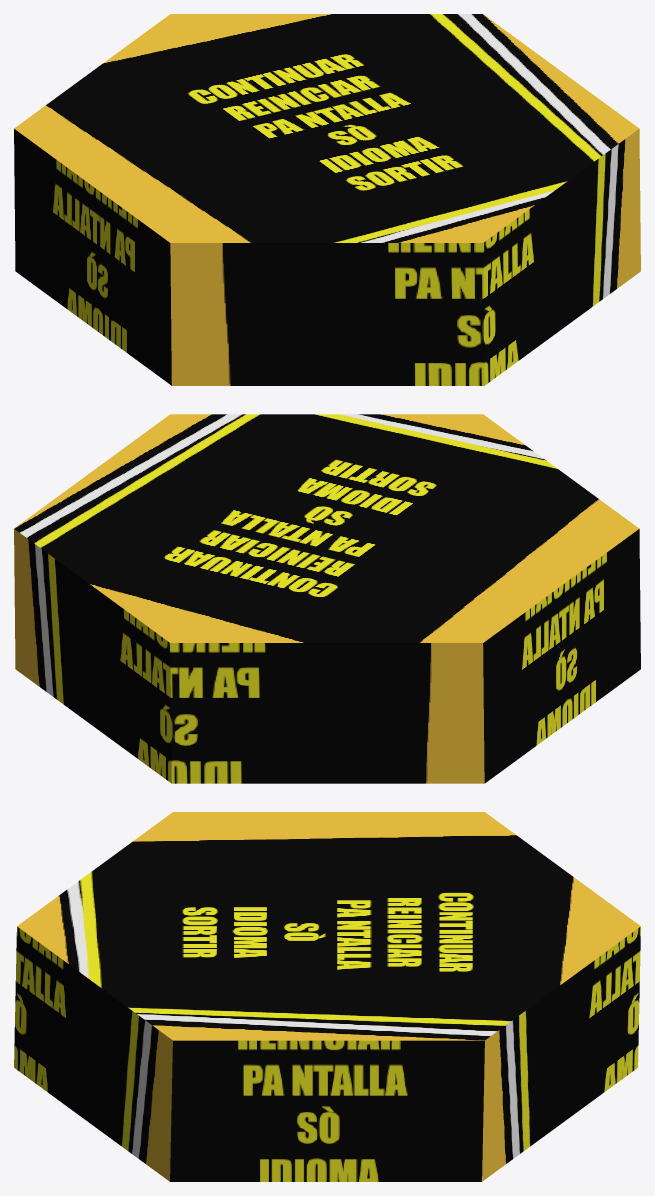
File: piece.fbx
The picture shows the model from 3 angles, top to bottom: view 1: azimuth 30°, elevation 25°; view 2: azimuth 150°, elevation 25°; view 3: azimuth 270°, elevation 25°; orthographic projection.
Parts seen in each view (by area): view 1: Hexagon; view 2: Hexagon; view 3: Hexagon.
Part boxes in pixels (x1,y1,x2,y2): Hexagon: (14,14,640,385); Hexagon: (14,414,640,783); Hexagon: (14,812,640,1181).
Bounding box in the file's own units: 173 × 50 × 201.
Materials: 1 (1 with a texture image).
